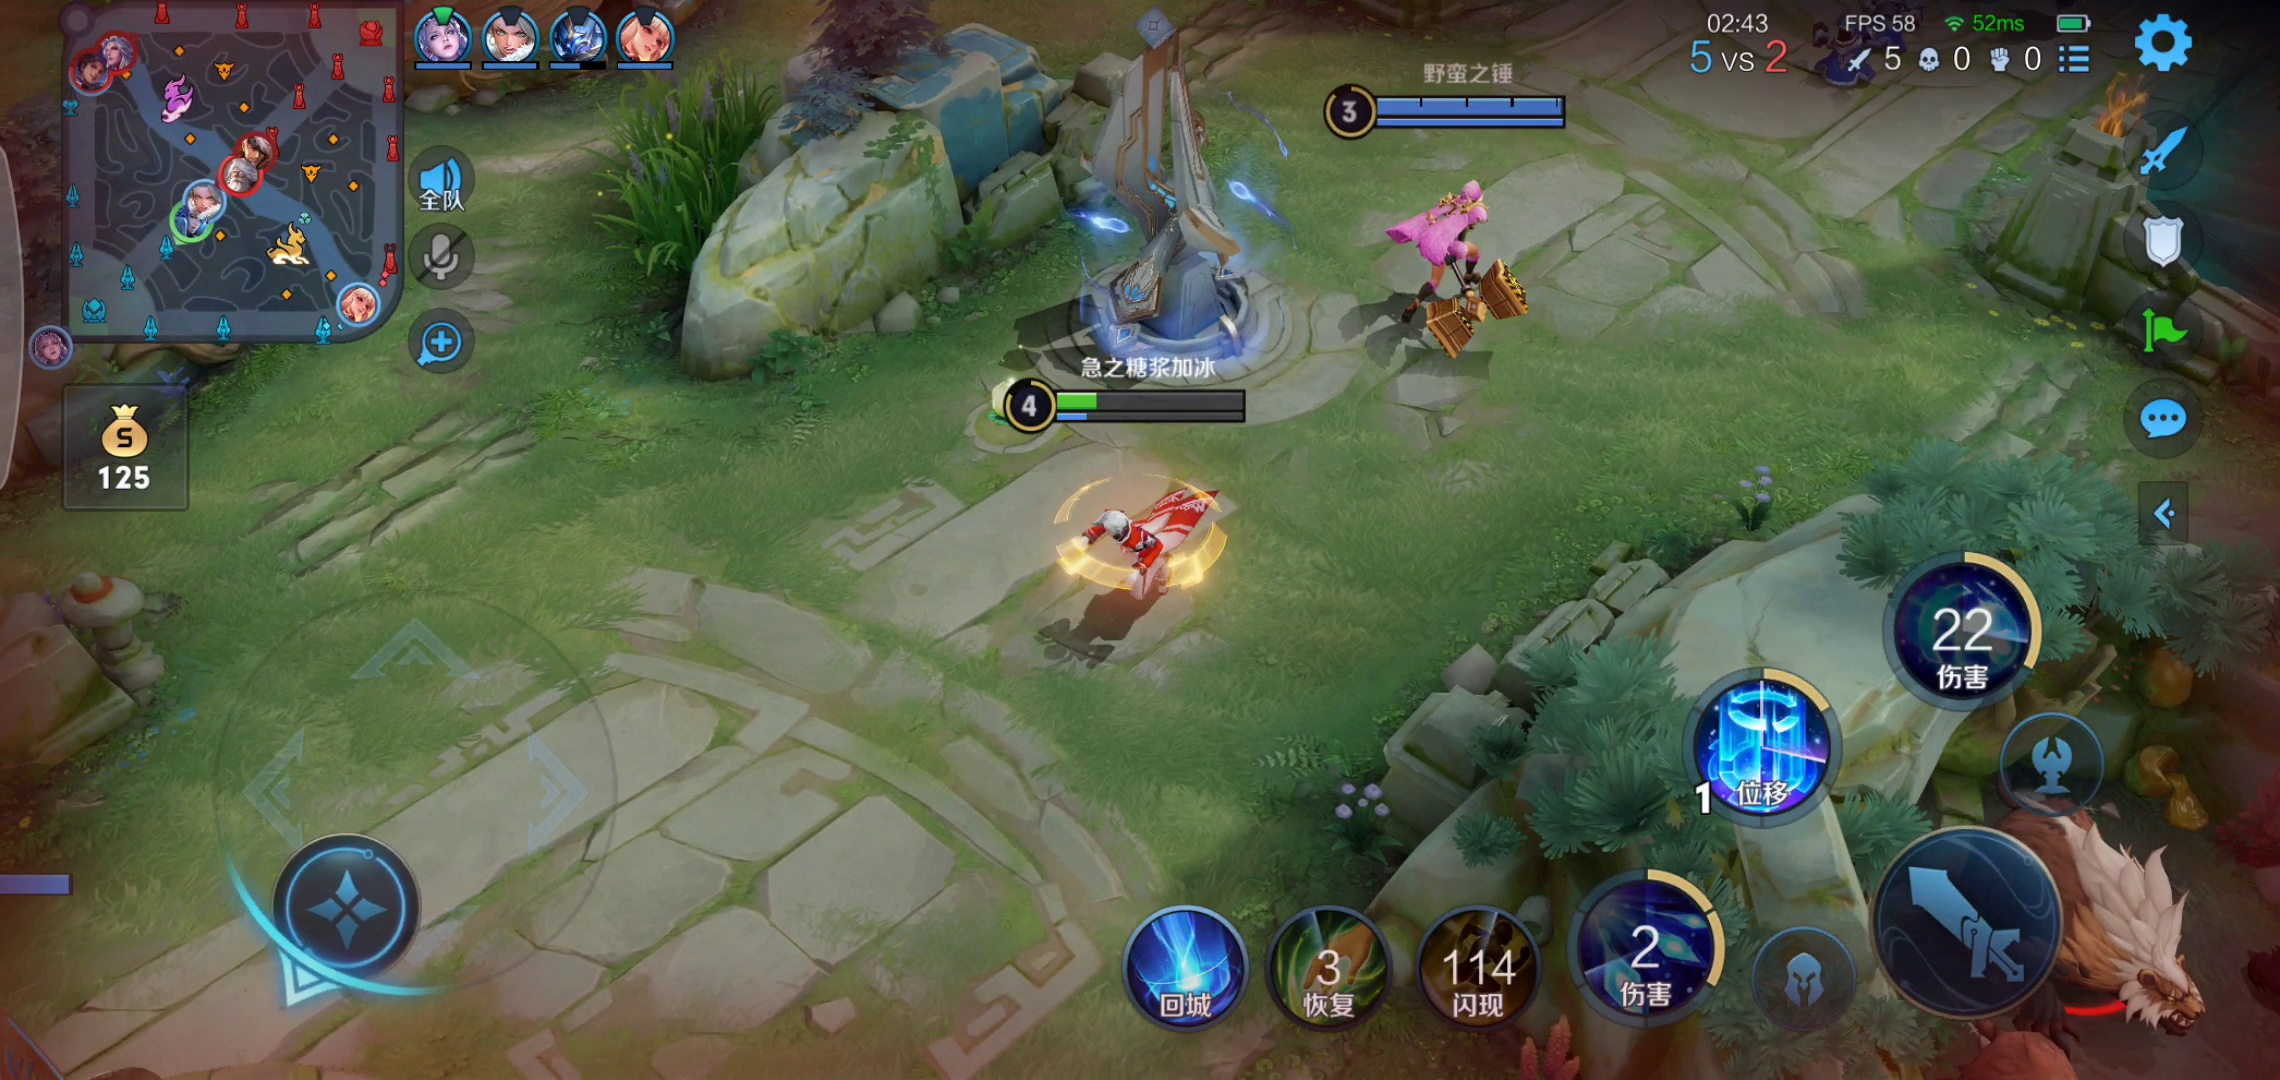grass: (599, 80, 778, 272)
hero: (1376, 161, 1537, 376), (1027, 472, 1253, 624)
soldier: (1805, 7, 1915, 105)
tower: (1056, 17, 1287, 392)
wild_monster: (1887, 789, 2228, 1080)
